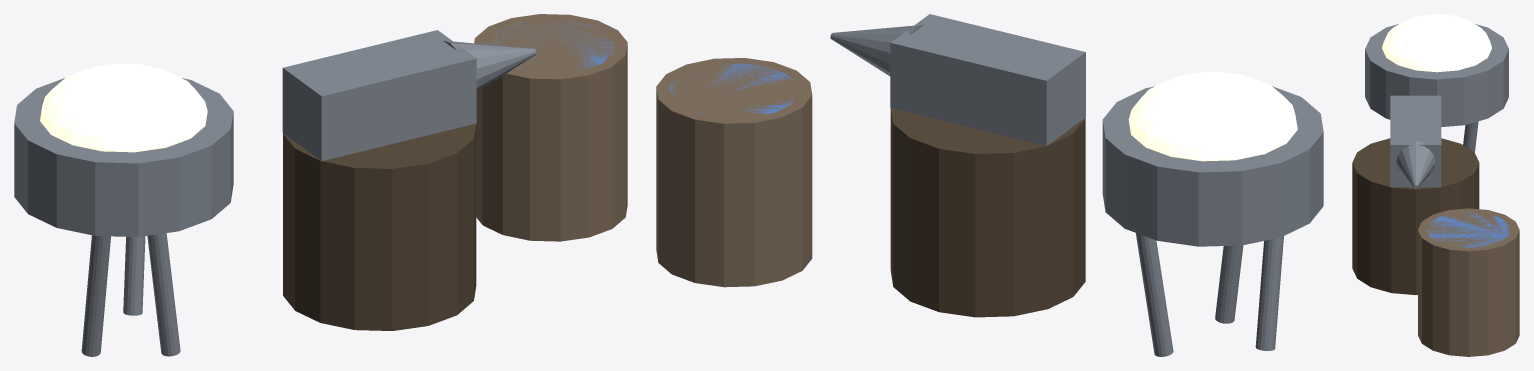
Rendered from forge_station.fbx.
3 renders of one model, left to right at view 1: azimuth 30°, elevation 25°; view 2: azimuth 150°, elevation 25°; view 3: azimuth 270°, elevation 25°, orthographic. The views are drawn at different scales.
Visible parts, largest first — view 1: forge_station; view 2: forge_station; view 3: forge_station.
Part boxes in pixels (x1,y1,x2,y2): forge_station: [14, 14, 627, 356]; forge_station: [656, 14, 1323, 356]; forge_station: [1352, 14, 1519, 356].
Bounding box in the file's own units: 2.18 × 0.88 × 0.79.
